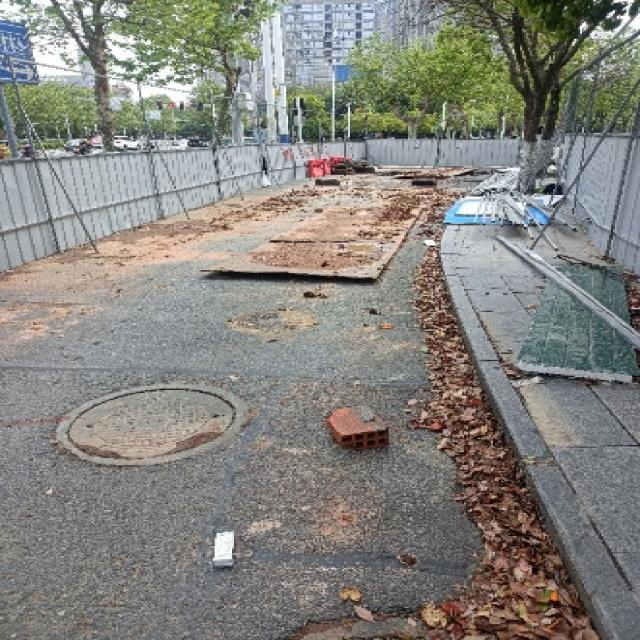Good: (61, 380, 256, 470)
